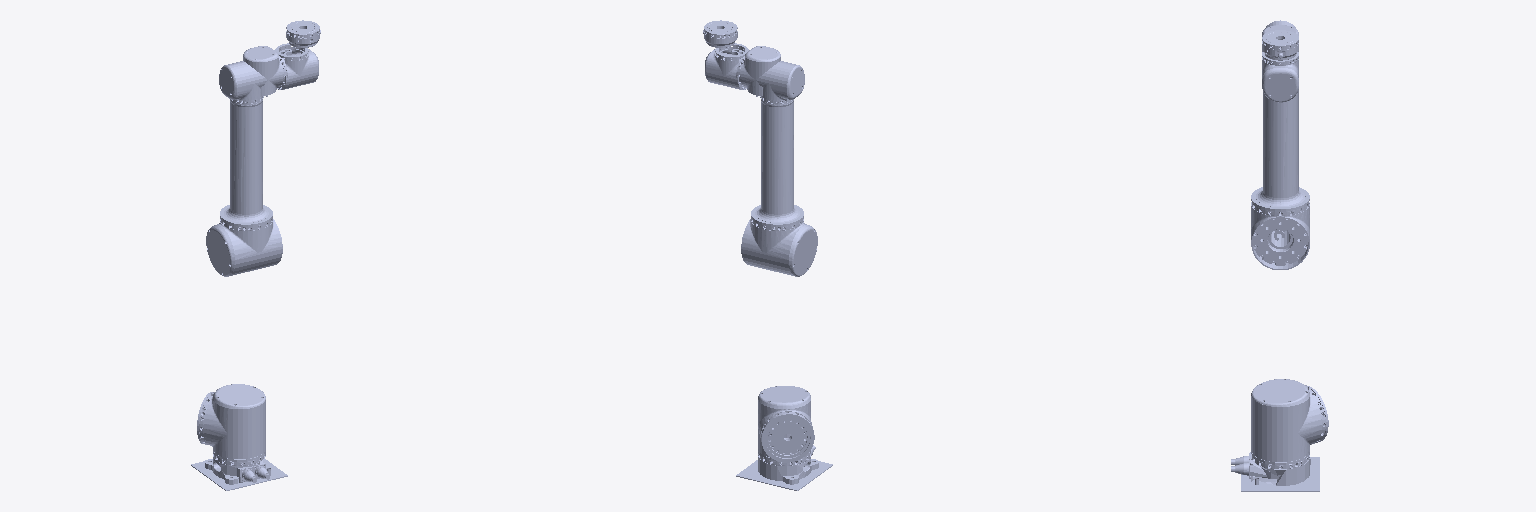
robot.urdf — zeroerr_arm:
<?xml version="1.0" encoding="utf-8"?>
<!-- This URDF was automatically created by SolidWorks to URDF Exporter! Originally created by [author] ([email redacted]) 
     Commit Version: 1.6.0-4-g7f85cfe  Build Version: 1.6.7995.38578
     For more information, please see http://wiki.ros.org/sw_urdf_exporter -->
<robot
  name="zeroerr_arm">
  <link
    name="base_link">
    <inertial>
      <origin
        xyz="0.0775 0.0069078 0.099208"
        rpy="0 0 0" />
      <mass
        value="0.085937" />
      <inertia
        ixx="0.00010525"
        ixy="-1.4365E-11"
        ixz="-3.3532E-10"
        iyy="0.00020742"
        iyz="1.6216E-11"
        izz="0.00010413" />
    </inertial>
    <visual>
      <origin
        xyz="0 0 0"
        rpy="0 0 0" />
      <geometry>
        <mesh
          filename="package://arm_description/meshes/base_link.STL" />
      </geometry>
      <material
        name="">
        <color
          rgba="0.79216 0.81961 0.93333 1" />
      </material>
    </visual>
    <collision>
      <origin
        xyz="0 0 0"
        rpy="0 0 0" />
      <geometry>
        <mesh
          filename="package://arm_description/meshes/base_link.STL" />
      </geometry>
    </collision>
  </link>
  <link
    name="j1_Link">
    <inertial>
      <origin
        xyz="1.39809714516242E-05 0.0669939444308098 -0.00885629168232677"
        rpy="0 0 0" />
      <mass
        value="1.13778617636807" />
      <inertia
        ixx="0.0021797026218081"
        ixy="-6.78707202643595E-07"
        ixz="-8.2341938376074E-07"
        iyy="0.00208311956408711"
        iyz="5.73235828886071E-05"
        izz="0.00211124112367574" />
    </inertial>
    <visual>
      <origin
        xyz="0 0 0"
        rpy="0 0 0" />
      <geometry>
        <mesh
          filename="package://arm_description/meshes/j1_Link.STL" />
      </geometry>
      <material
        name="">
        <color
          rgba="0.792156862745098 0.819607843137255 0.933333333333333 1" />
      </material>
    </visual>
    <collision>
      <origin
        xyz="0 0 0"
        rpy="0 0 0" />
      <geometry>
        <mesh
          filename="package://arm_description/meshes/j1_Link.STL" />
      </geometry>
    </collision>
  </link>
  <joint
    name="j1"
    type="continuous">
    <origin
      xyz="0.0775 -0.0775 0.0389"
      rpy="1.57 0 -1.570796327" />
    <parent
      link="base_link" />
    <child
      link="j1_Link" />
    <axis
      xyz="0 1 0" />
  </joint>
  <link
    name="j2_Link">
    <inertial>
      <origin
        xyz="7.35050096289935E-07 0.212502487502418 -0.128617388856667"
        rpy="0 0 0" />
      <mass
        value="2.70662121520297" />
      <inertia
        ixx="0.00980557500137448"
        ixy="-1.63595311376548E-06"
        ixz="-1.39298220716479E-07"
        iyy="0.00504716746672425"
        iyz="3.89692286686255E-10"
        izz="0.00961310793580224" />
    </inertial>
    <visual>
      <origin
        xyz="0 0 0"
        rpy="0 0 0" />
      <geometry>
        <mesh
          filename="package://arm_description/meshes/j2_Link.STL" />
      </geometry>
      <material
        name="">
        <color
          rgba="0.792156862745098 0.819607843137255 0.933333333333333 1" />
      </material>
    </visual>
    <collision>
      <origin
        xyz="0 0 0"
        rpy="0 0 0" />
      <geometry>
        <mesh
          filename="package://arm_description/meshes/j2_Link.STL" />
      </geometry>
    </collision>
  </link>
  <joint
    name="j2"
    type="continuous">
    <origin
      xyz="0 0.0734000000000014 0"
      rpy="0 0 0" />
    <parent
      link="j1_Link" />
    <child
      link="j2_Link" />
    <axis
      xyz="0 0 -1" />
  </joint>
  <link
    name="j3_Link">
    <inertial>
      <origin
        xyz="4.14499979048411E-06 0.136177277027621 -0.0164491381365687"
        rpy="0 0 0" />
      <mass
        value="1.64557369565779" />
      <inertia
        ixx="0.0061874899408556"
        ixy="7.90680995424762E-07"
        ixz="-3.06656843069349E-07"
        iyy="0.00216040928773684"
        iyz="2.39278474234378E-05"
        izz="0.00663810025235098" />
    </inertial>
    <visual>
      <origin
        xyz="0 0 0"
        rpy="0 0 0" />
      <geometry>
        <mesh
          filename="package://arm_description/meshes/j3_Link.STL" />
      </geometry>
      <material
        name="">
        <color
          rgba="0.792156862745098 0.819607843137255 0.933333333333333 1" />
      </material>
    </visual>
    <collision>
      <origin
        xyz="0 0 0"
        rpy="0 0 0" />
      <geometry>
        <mesh
          filename="package://arm_description/meshes/j3_Link.STL" />
      </geometry>
    </collision>
  </link>
  <joint
    name="j3"
    type="continuous">
    <origin
      xyz="0 0.425 0"
      rpy="0 0 0" />
    <parent
      link="j2_Link" />
    <child
      link="j3_Link" />
    <axis
      xyz="0 0 1" />
  </joint>
  <link
    name="j4_Link">
    <inertial>
      <origin
        xyz="2.22401702753977E-05 0.000296442259161256 -0.0235523956560789"
        rpy="0 0 0" />
      <mass
        value="0.388500039640416" />
      <inertia
        ixx="0.000287119470784055"
        ixy="1.14088933267957E-07"
        ixz="1.06205342371445E-07"
        iyy="0.000301174229722053"
        iyz="4.4865099764138E-07"
        izz="0.000298502877255689" />
    </inertial>
    <visual>
      <origin
        xyz="0 0 0"
        rpy="0 0 0" />
      <geometry>
        <mesh
          filename="package://arm_description/meshes/j4_Link.STL" />
      </geometry>
      <material
        name="">
        <color
          rgba="0.792156862745098 0.819607843137255 0.933333333333333 1" />
      </material>
    </visual>
    <collision>
      <origin
        xyz="0 0 0"
        rpy="0 0 0" />
      <geometry>
        <mesh
          filename="package://arm_description/meshes/j4_Link.STL" />
      </geometry>
    </collision>
  </link>
  <joint
    name="j4"
    type="continuous">
    <origin
      xyz="0 0.400999999999999 -0.0930934055822586"
      rpy="0 0 0" />
    <parent
      link="j3_Link" />
    <child
      link="j4_Link" />
    <axis
      xyz="0 0 -1" />
  </joint>
  <link
    name="j5_Link">
    <inertial>
      <origin
        xyz="-2.08571929433549E-05 0.0450511415928927 -0.013729662854679"
        rpy="0 0 0" />
      <mass
        value="0.413553678243016" />
      <inertia
        ixx="0.00029147123952223"
        ixy="1.06405616874075E-07"
        ixz="1.1359852283896E-07"
        iyy="0.000277718868421539"
        iyz="4.77879470244231E-07"
        izz="0.000336224747451519" />
    </inertial>
    <visual>
      <origin
        xyz="0 0 0"
        rpy="0 0 0" />
      <geometry>
        <mesh
          filename="package://arm_description/meshes/j5_Link.STL" />
      </geometry>
      <material
        name="">
        <color
          rgba="0.792156862745098 0.819607843137255 0.933333333333333 1" />
      </material>
    </visual>
    <collision>
      <origin
        xyz="0 0 0"
        rpy="0 0 0" />
      <geometry>
        <mesh
          filename="package://arm_description/meshes/j5_Link.STL" />
      </geometry>
    </collision>
  </link>
  <joint
    name="j5"
    type="continuous">
    <origin
      xyz="0 0.0381316776493207 -0.0379065944177415"
      rpy="0 0 0" />
    <parent
      link="j4_Link" />
    <child
      link="j5_Link" />
    <axis
      xyz="0 1 0" />
  </joint>
  <link
    name="j6_Link">
    <inertial>
      <origin
        xyz="-6.93889390390723E-16 0.0475091973487687 -2.22044604925031E-16"
        rpy="0 0 0" />
      <mass
        value="0.0395178623740459" />
      <inertia
        ixx="2.17916748567665E-05"
        ixy="-1.01643953670516E-20"
        ixz="-2.85873619698326E-21"
        iyy="4.33177732126034E-05"
        iyz="7.68682399633278E-20"
        izz="2.17916748567665E-05" />
    </inertial>
    <visual>
      <origin
        xyz="0 0 0"
        rpy="0 0 0" />
      <geometry>
        <mesh
          filename="package://arm_description/meshes/j6_Link.STL" />
      </geometry>
      <material
        name="">
        <color
          rgba="0.792156862745098 0.819607843137255 0.933333333333333 1" />
      </material>
    </visual>
    <collision>
      <origin
        xyz="0 0 0"
        rpy="0 0 0" />
      <geometry>
        <mesh
          filename="package://arm_description/meshes/j6_Link.STL" />
      </geometry>
    </collision>
  </link>
  <joint
    name="j6"
    type="continuous">
    <origin
      xyz="0 0.0478683223506789 -0.0281658025970178"
      rpy="-1.5707963267949 0 0" />
    <parent
      link="j5_Link" />
    <child
      link="j6_Link" />
    <axis
      xyz="0 1 0" />
  </joint>
</robot>

--- Facts derived from the render (not from the file) ---
The picture shows the robot from 3 angles, left to right: view 1: azimuth 30°, elevation 25°; view 2: azimuth 150°, elevation 25°; view 3: azimuth 270°, elevation 25°; orthographic projection.
Model zeroerr_arm with 7 links and 6 joints (6 continuous), rooted at base_link, posed all joints at 0.
Visible links, largest first — view 1: j3_Link, j1_Link, base_link, j5_Link, j4_Link, j6_Link; view 2: j3_Link, j1_Link, base_link, j5_Link, j4_Link, j6_Link; view 3: j3_Link, j1_Link, base_link, j5_Link, j6_Link.
Boxes of the visible links, bbox=[...] form: j3_Link: bbox=[206, 61, 282, 276]; j1_Link: bbox=[197, 384, 265, 462]; base_link: bbox=[191, 450, 287, 490]; j5_Link: bbox=[275, 43, 318, 89]; j4_Link: bbox=[243, 46, 287, 97]; j6_Link: bbox=[286, 20, 320, 47]; j3_Link: bbox=[741, 61, 817, 276]; j1_Link: bbox=[758, 386, 814, 462]; base_link: bbox=[736, 445, 832, 490]; j5_Link: bbox=[705, 43, 748, 89]; j4_Link: bbox=[736, 46, 780, 97]; j6_Link: bbox=[703, 20, 737, 47]; j3_Link: bbox=[1251, 20, 1309, 269]; j1_Link: bbox=[1251, 379, 1328, 461]; base_link: bbox=[1231, 452, 1319, 491]; j5_Link: bbox=[1262, 52, 1298, 102]; j6_Link: bbox=[1262, 30, 1298, 60].
Size in the robot's own frame: 0.2946 by 0.1916 by 1.02 metres.
6 mesh visuals loaded from 7 distinct referenced files (6 binary STL); not drawn: 1 (reference not matched to a file when rendering).